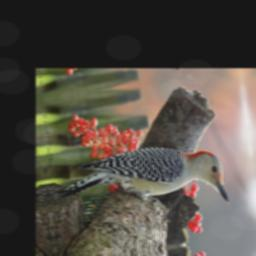Woodpecker: (44, 136, 234, 237)
